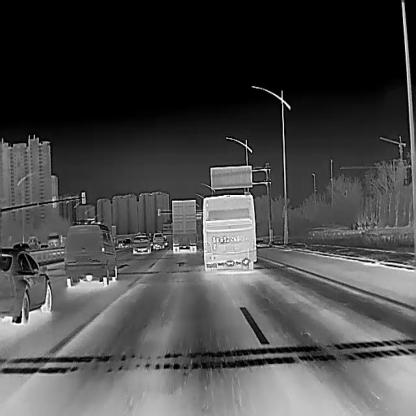bus: (202, 191, 257, 271)
car: (0, 247, 52, 322), (64, 223, 118, 286), (132, 235, 150, 253), (152, 232, 165, 249), (12, 242, 29, 249)
truck: (172, 199, 196, 252), (46, 232, 66, 248), (27, 234, 48, 249)
